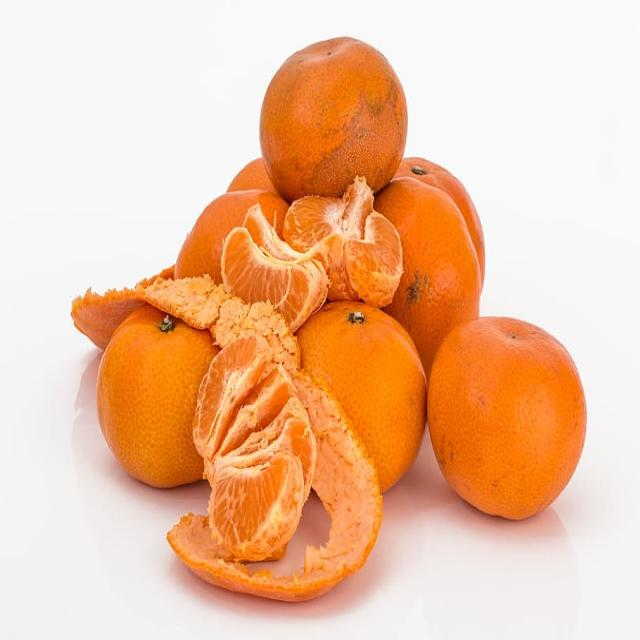orange: (431, 315, 582, 532), (260, 32, 404, 190)
